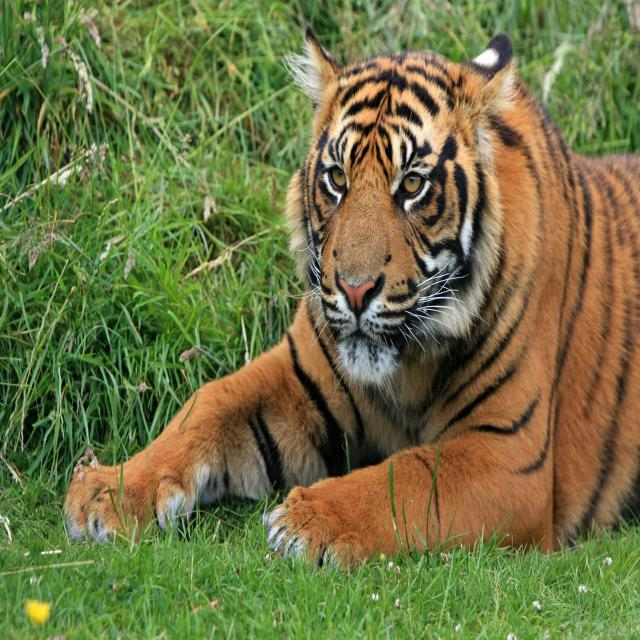Tiger: (67, 26, 640, 576)
